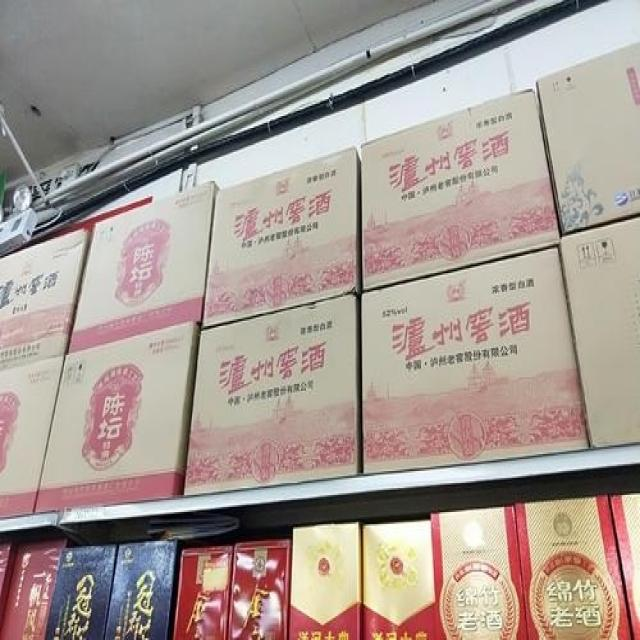box: (362, 247, 590, 474), (360, 89, 561, 295), (182, 290, 362, 498), (33, 321, 201, 514), (200, 147, 362, 329), (67, 181, 219, 353), (536, 41, 640, 236), (557, 215, 640, 449), (513, 495, 631, 640), (431, 505, 529, 638), (0, 229, 92, 369), (0, 353, 65, 519), (364, 519, 436, 640), (289, 522, 362, 640), (45, 544, 119, 640), (104, 541, 175, 640), (1, 538, 68, 640), (228, 539, 293, 640), (174, 548, 233, 640), (608, 492, 640, 640), (0, 544, 18, 633)
